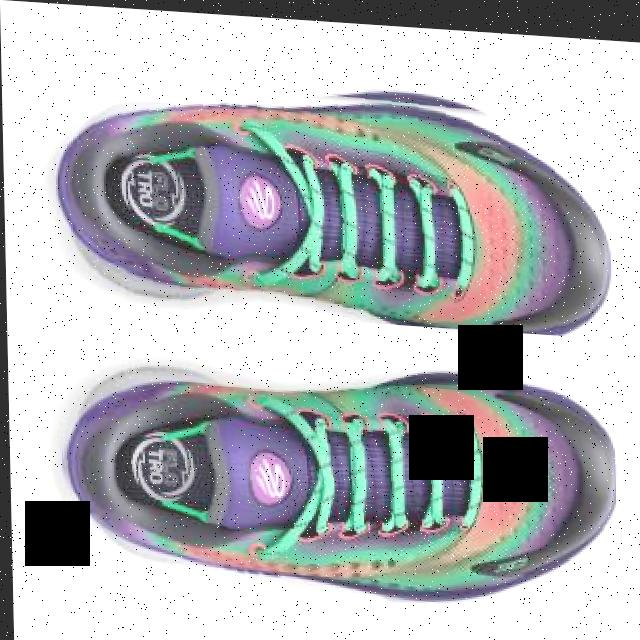shoe: (56, 340, 616, 609), (53, 66, 613, 331)
